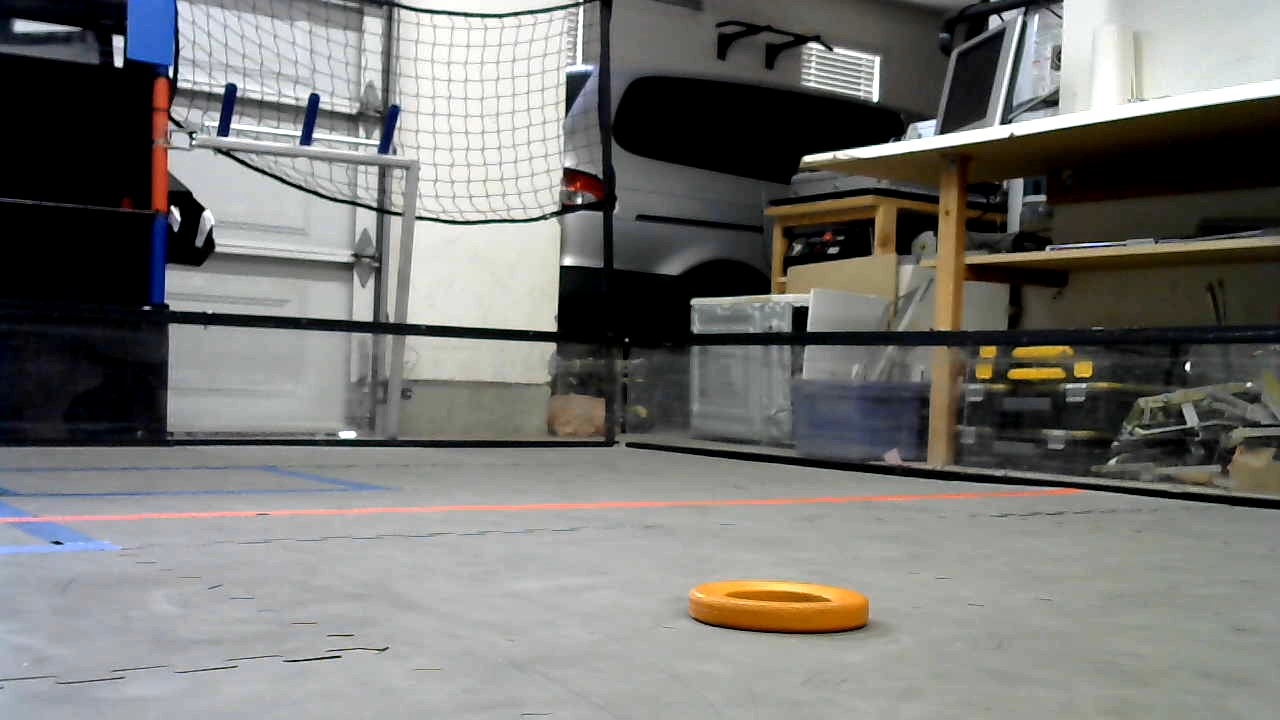OneStack: (690, 578, 870, 631)
